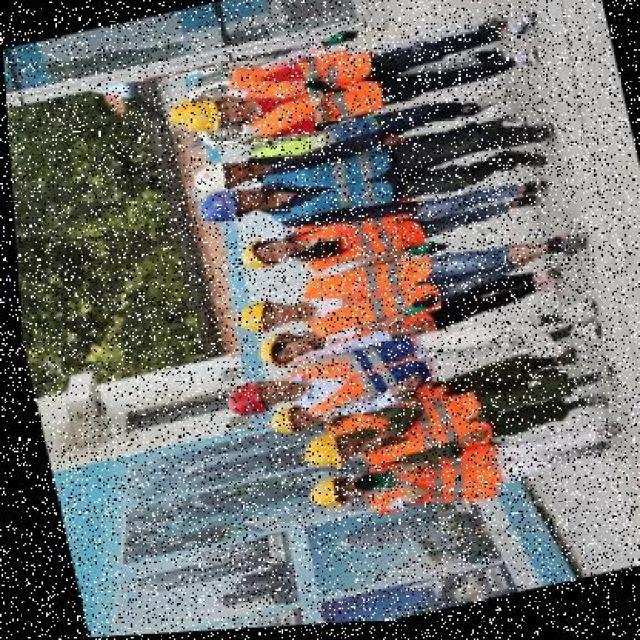helmet: (188, 183, 254, 232), (214, 374, 275, 423), (224, 295, 284, 343), (295, 471, 353, 518), (173, 92, 232, 138), (186, 158, 238, 198), (257, 402, 307, 442)
vest: (240, 51, 380, 143), (289, 334, 423, 423), (296, 259, 434, 342), (342, 393, 480, 473), (260, 149, 392, 229), (354, 450, 490, 519), (289, 210, 421, 279)
